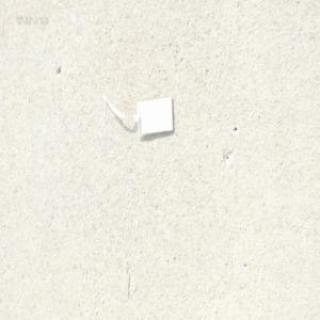LuggageTagtrack_idkeyframe: (98, 77, 175, 139)
